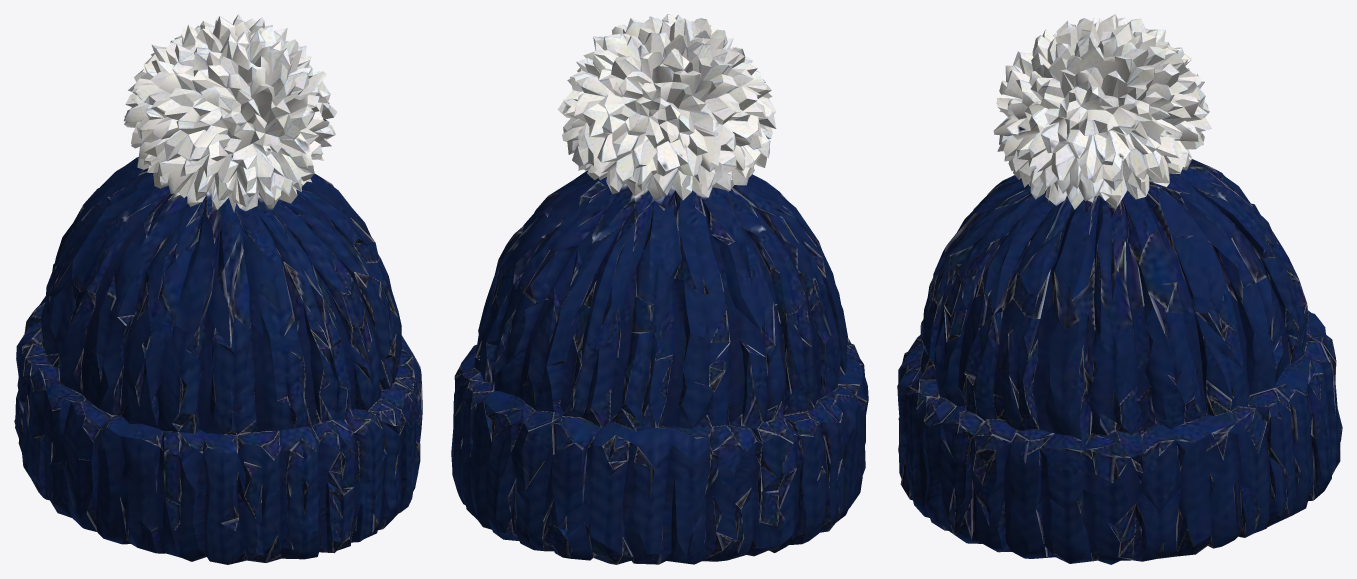
Rendered from hat_beanie.glb.
3 renders of one model, left to right at view 1: azimuth 30°, elevation 25°; view 2: azimuth 150°, elevation 25°; view 3: azimuth 270°, elevation 25°, orthographic. The views are drawn at different scales.
Size of the model in its own units: 1.48 by 1.9 by 1.63.
1 material, 1 textured.
